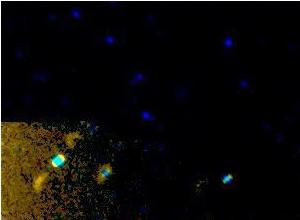star: (23, 165, 53, 195)
